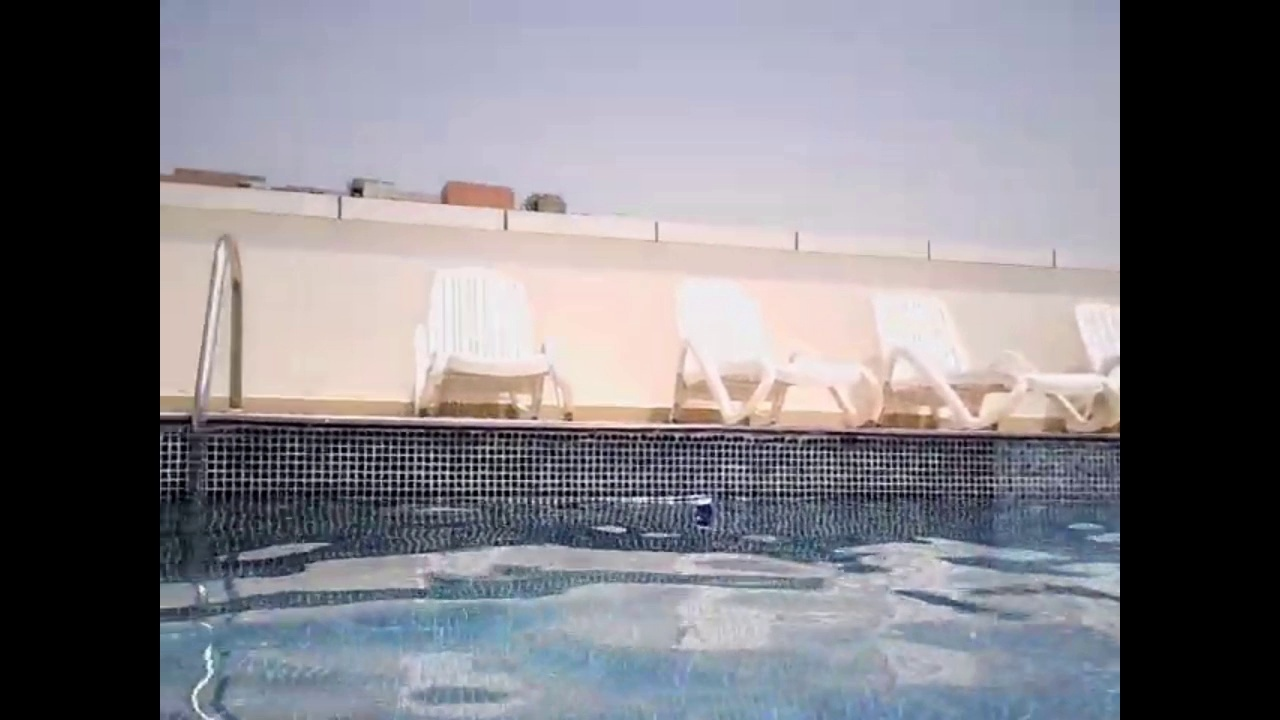debris: (690, 495, 716, 531)
